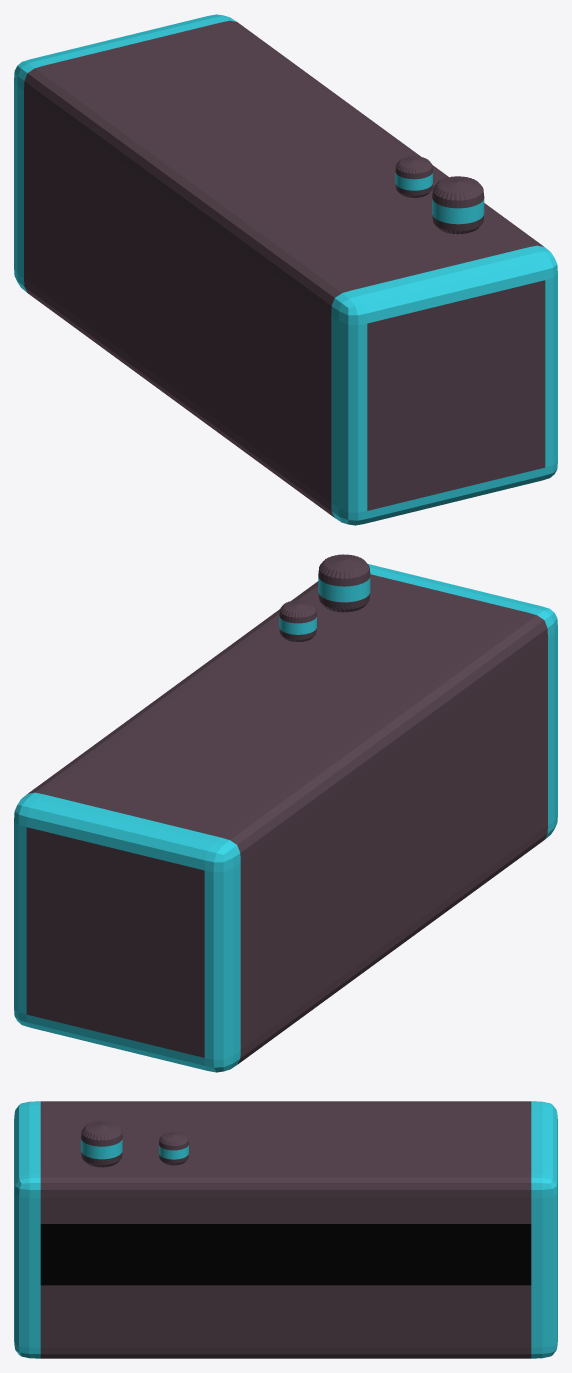
The model's file is ggj2019alarm.fbx.
3 renders of one model, top to bottom at view 1: azimuth 30°, elevation 25°; view 2: azimuth 150°, elevation 25°; view 3: azimuth 270°, elevation 25°, orthographic. The views are drawn at different scales.
Parts seen in each view (by area): view 1: Cube; view 2: Cube; view 3: Cube.
Boxes of the visible parts, x1=… form: Cube: x1=14, y1=14, x2=557, y2=525; Cube: x1=14, y1=554, x2=557, y2=1072; Cube: x1=14, y1=1101, x2=557, y2=1358.
Size of the model in its own units: 11.26 by 13.51 by 30.64.
